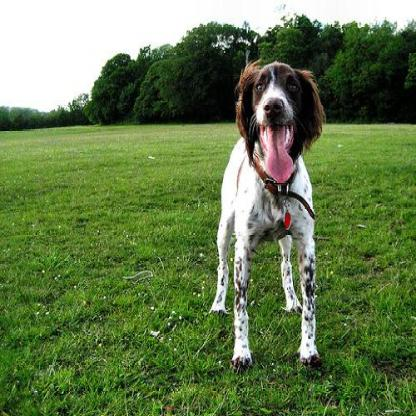English_springer: (209, 54, 324, 371)
